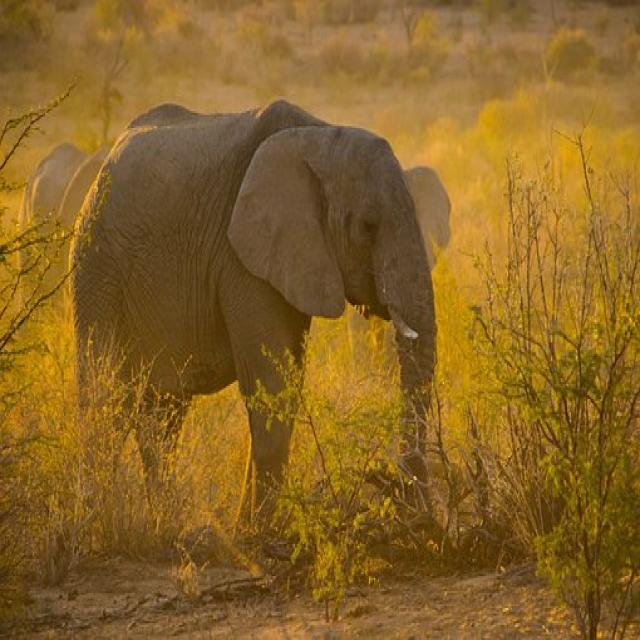Elephant: (68, 71, 452, 570)
